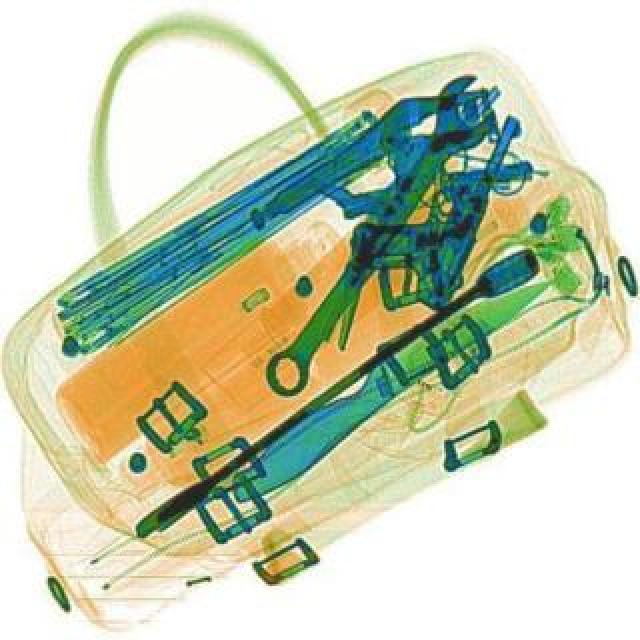gun: (336, 84, 516, 304)
knife: (216, 258, 562, 506)
scissors: (244, 64, 512, 404)
